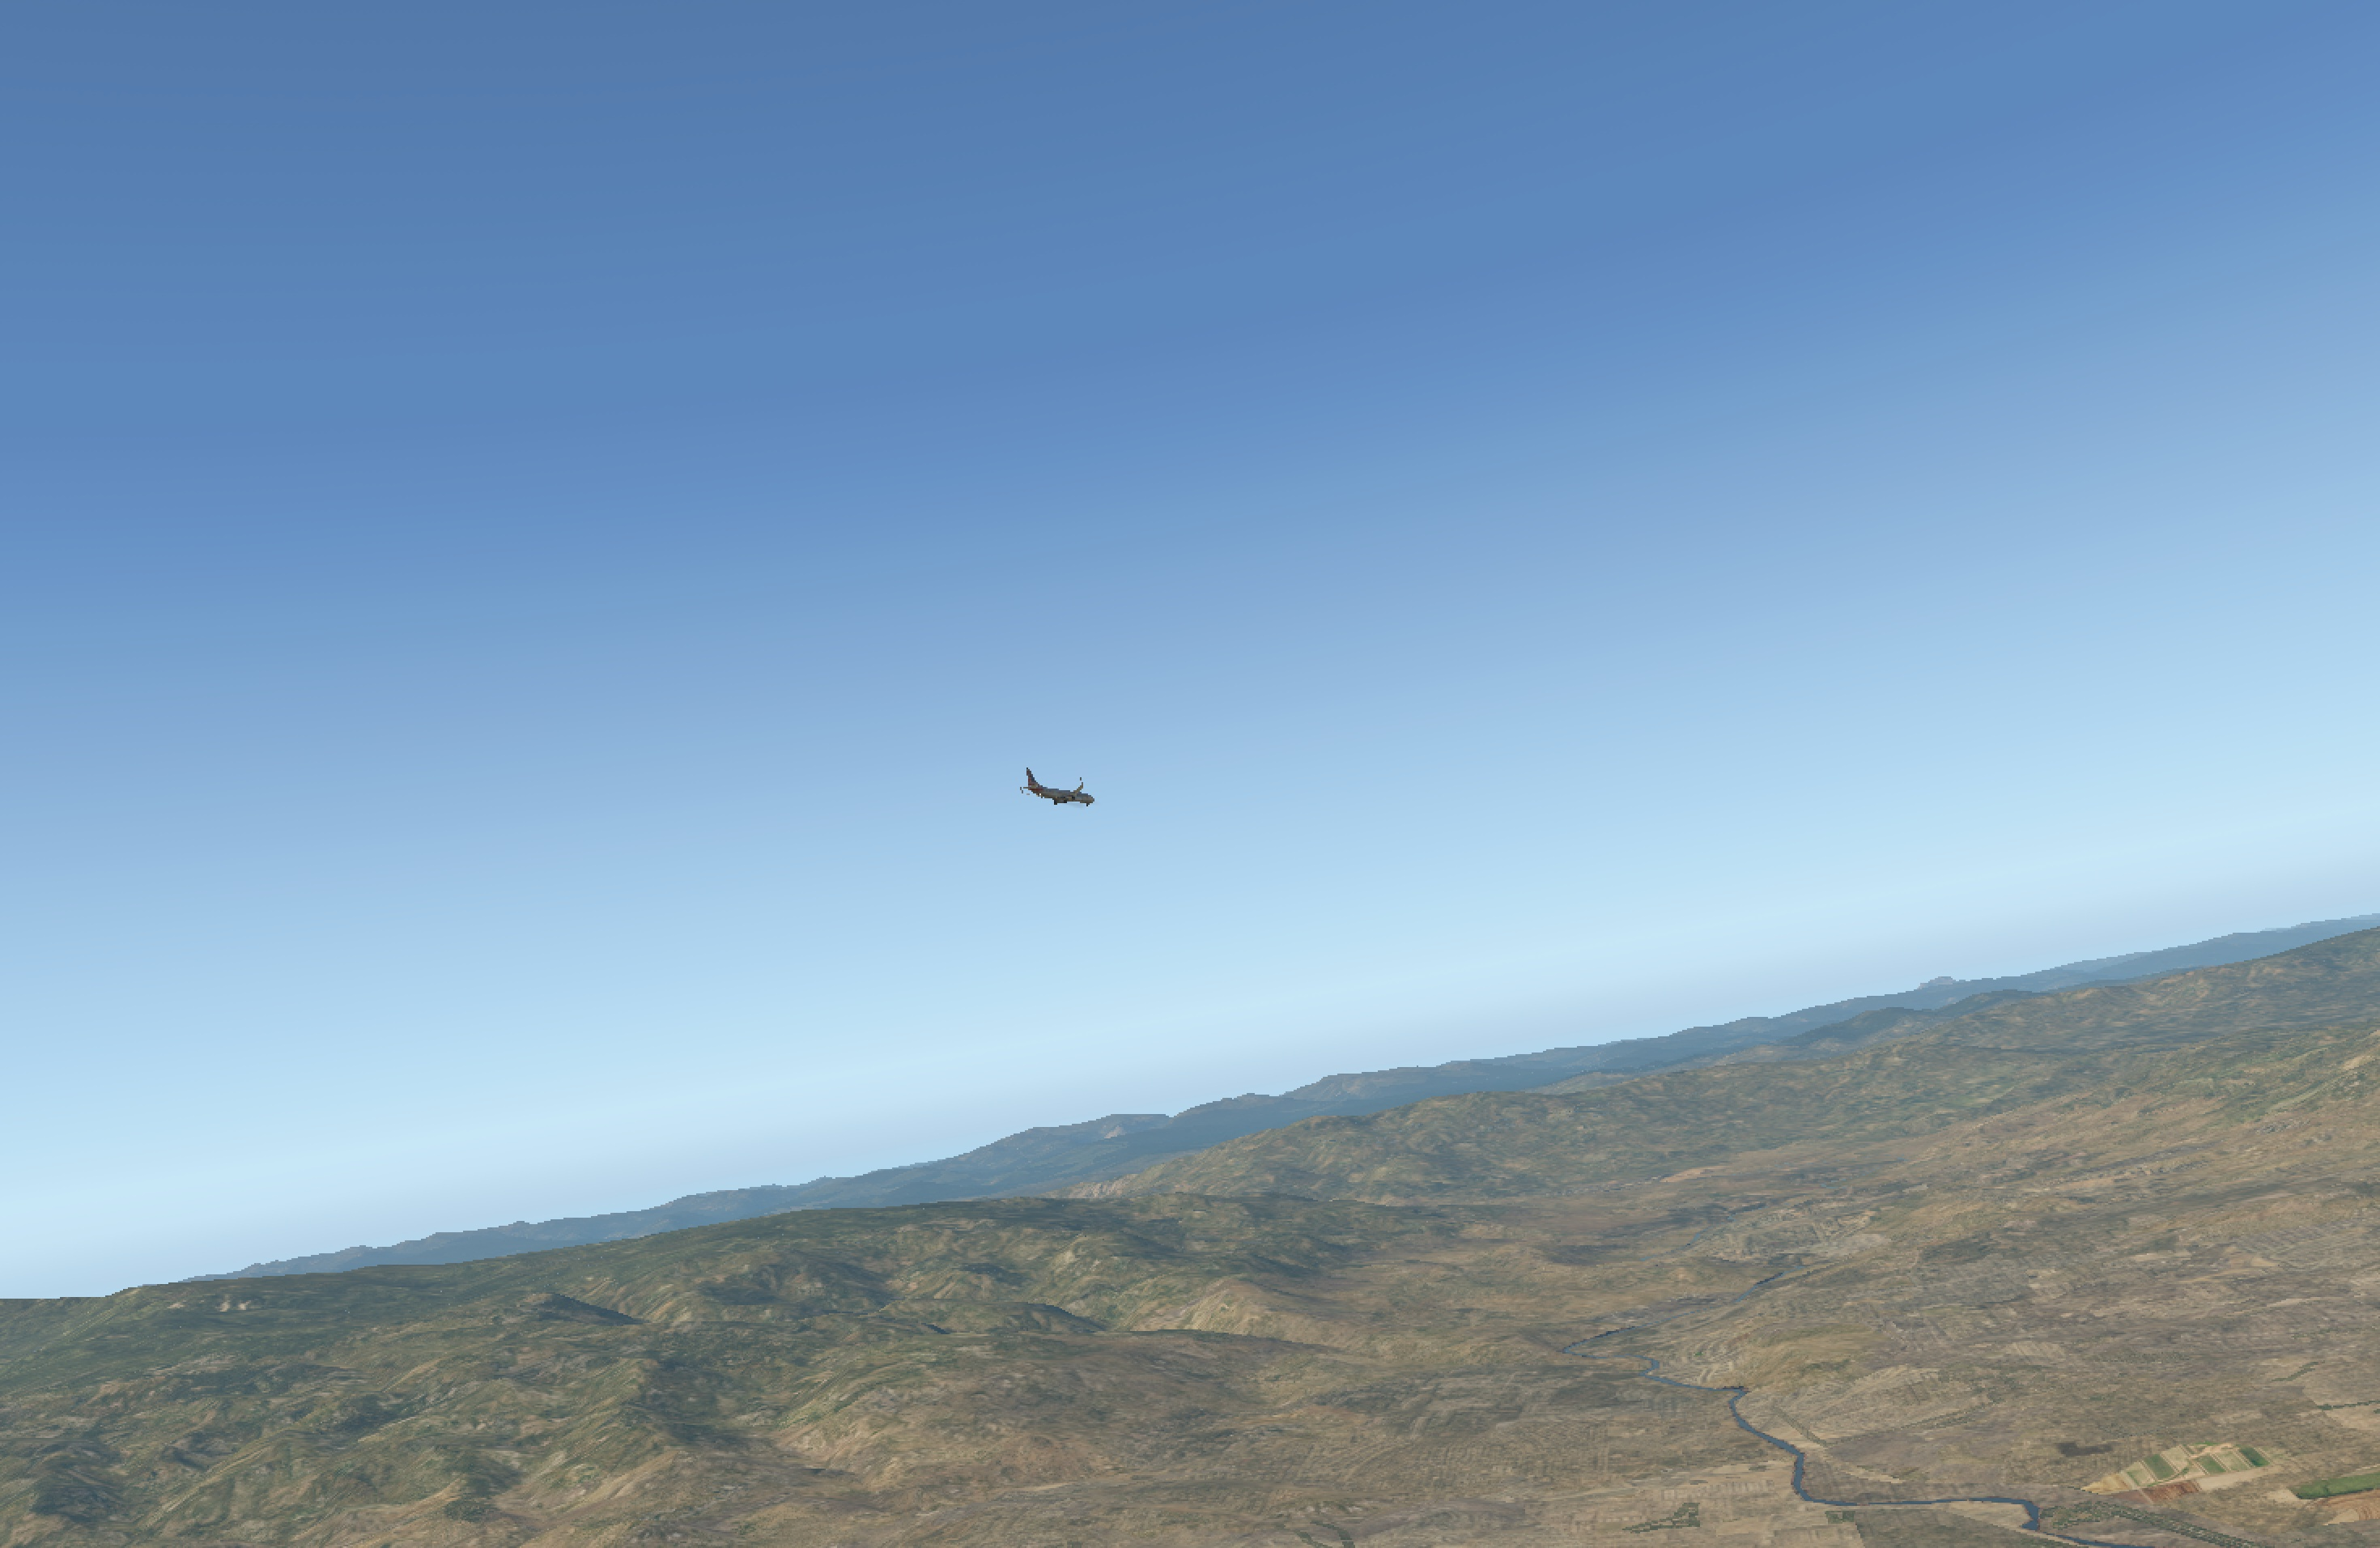aircraft: (1015, 779, 1112, 816)
